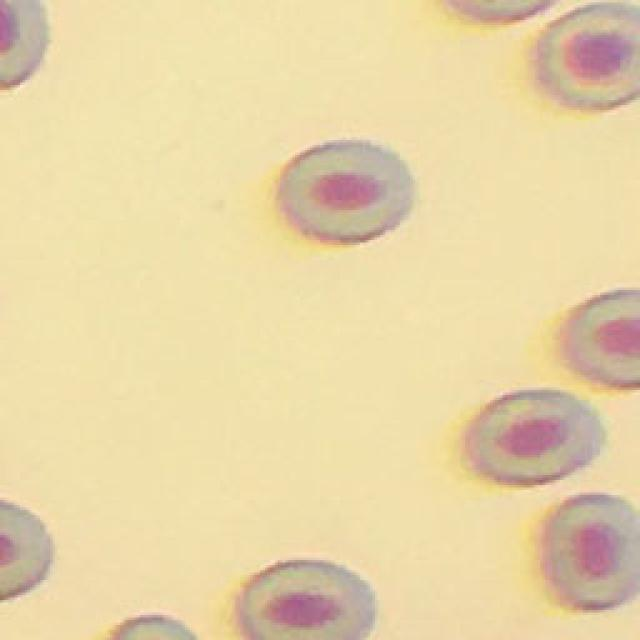RBC: (280, 138, 417, 242), (468, 390, 608, 487), (539, 492, 640, 615), (533, 2, 640, 111), (239, 561, 376, 640), (564, 290, 640, 390), (0, 1, 48, 90)
